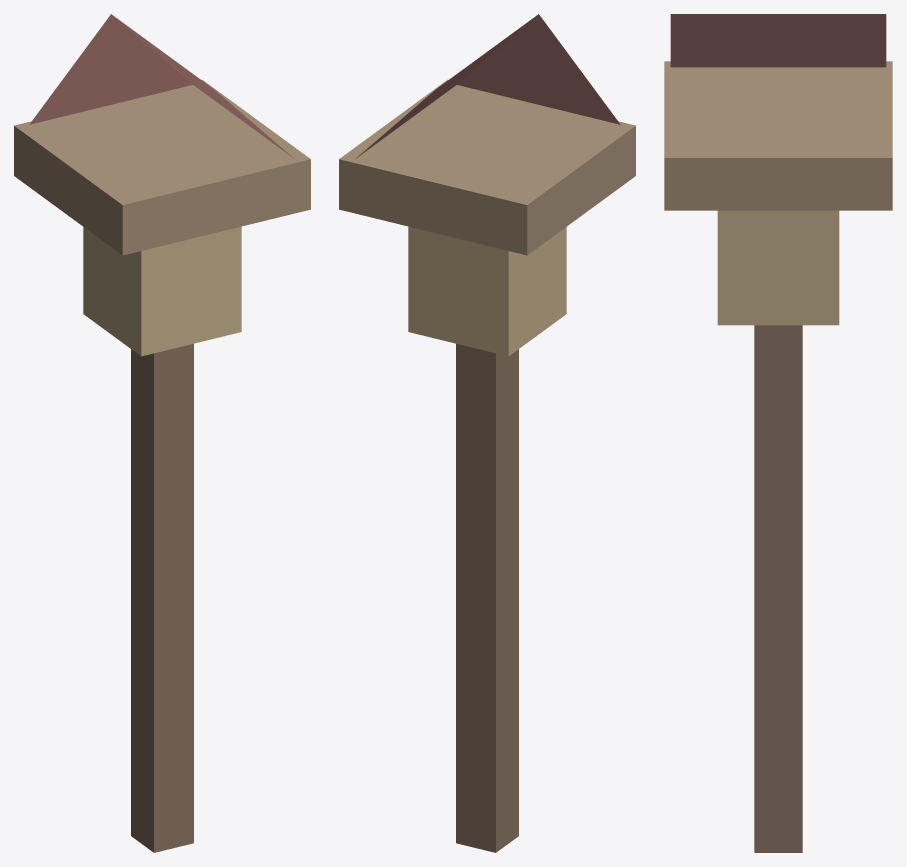
The model's file is poste_lanterna.glb.
The picture shows the model from 3 angles, left to right: view 1: azimuth 30°, elevation 25°; view 2: azimuth 150°, elevation 25°; view 3: azimuth 270°, elevation 25°; orthographic projection. The views are drawn at different scales.
Parts seen in each view (by area): view 1: part_001, part_000, part_002, part_003; view 2: part_001, part_000, part_002, part_003; view 3: part_001, part_000, part_002, part_003.
Boxes of the visible parts, left/top/right/bottom form: part_001: left=14, top=79, right=310, bottom=255; part_000: left=131, top=343, right=193, bottom=852; part_002: left=83, top=226, right=241, bottom=356; part_003: left=29, top=14, right=293, bottom=158; part_001: left=339, top=79, right=635, bottom=255; part_000: left=456, top=343, right=518, bottom=852; part_002: left=408, top=226, right=566, bottom=356; part_003: left=356, top=14, right=620, bottom=158; part_001: left=664, top=61, right=892, bottom=210; part_000: left=754, top=325, right=802, bottom=852; part_002: left=717, top=210, right=839, bottom=325; part_003: left=670, top=14, right=886, bottom=67.
Bounding box in the file's own units: 0.9 × 3.6 × 0.9.
